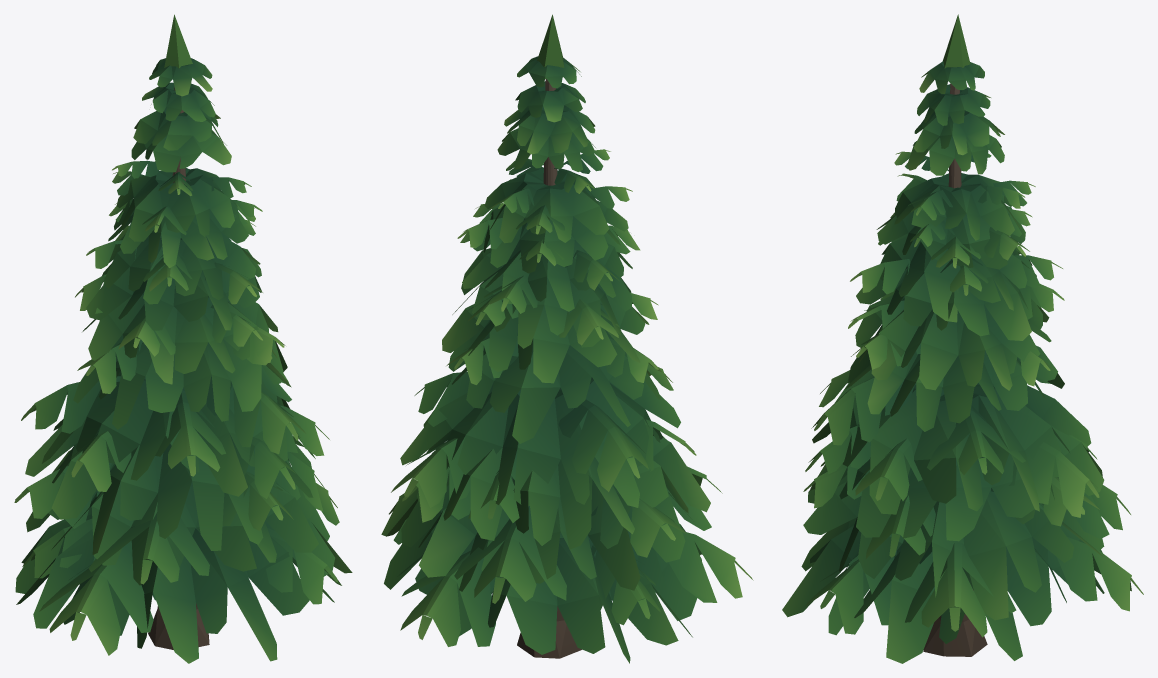
The model's file is spruce_M_normal_std_gapped_s37.glb.
The picture shows the model from 3 angles, left to right: view 1: azimuth 30°, elevation 25°; view 2: azimuth 150°, elevation 25°; view 3: azimuth 270°, elevation 25°; orthographic projection.
Parts seen in each view (by area): view 1: Tree; view 2: Tree; view 3: Tree.
Part boxes in pixels (x1,y1,x2,y2): Tree: [14, 14, 352, 663]; Tree: [381, 14, 753, 663]; Tree: [782, 14, 1143, 663].
Size of what is drawn, in the model's own units: 3.16 by 5.93 by 3.09.
